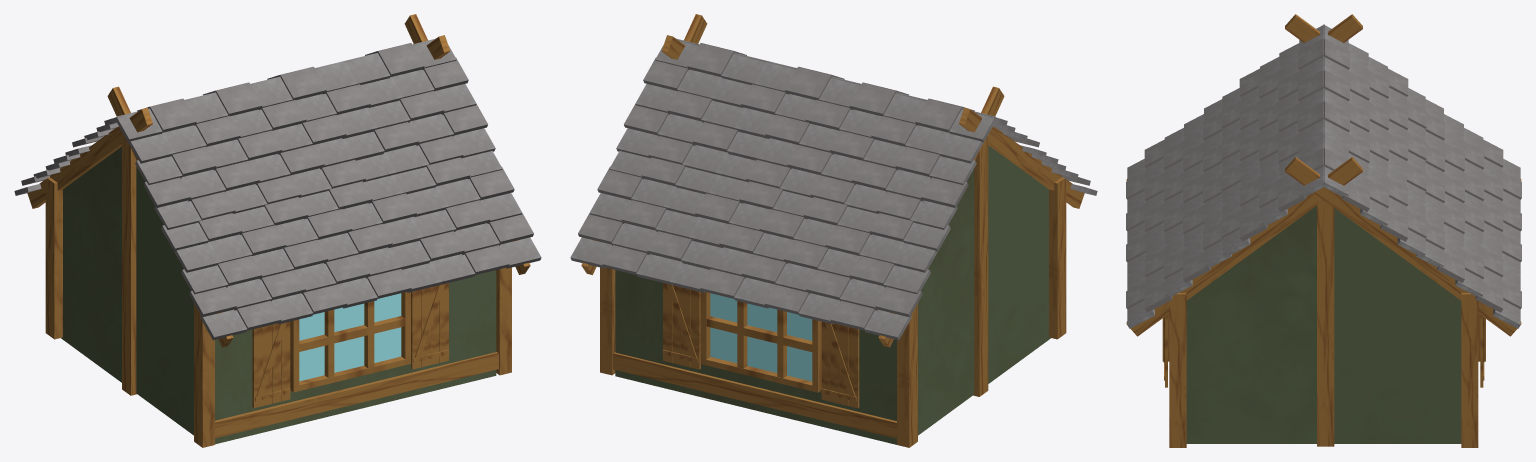
Rendered from House2.fbx.
3 views of the same model, side by side, from view 1: azimuth 30°, elevation 25°; view 2: azimuth 150°, elevation 25°; view 3: azimuth 270°, elevation 25° (orthographic).
Parts seen in each view (by area): view 1: polySurface1197; view 2: polySurface1197; view 3: polySurface1197.
Part boxes in pixels (x1,y1,x2,y2): polySurface1197: (14,14,541,447); polySurface1197: (570,14,1097,447); polySurface1197: (1126,14,1521,447).
Bounding box in the file's own units: 1.95 × 1.65 × 2.04.
